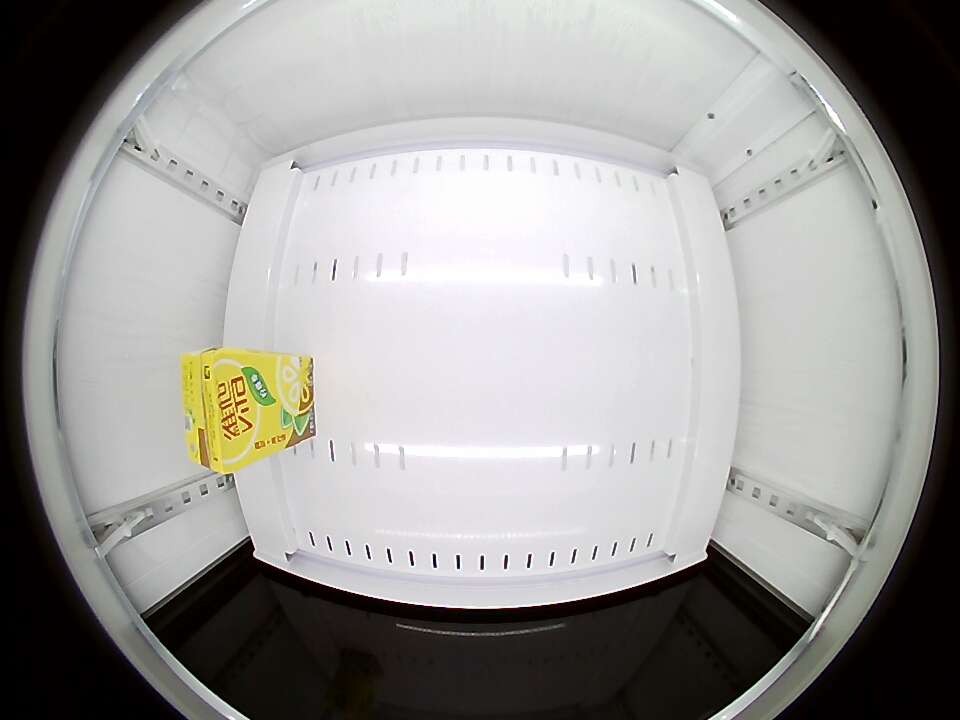weitaningmeng: (182, 350, 269, 474)
